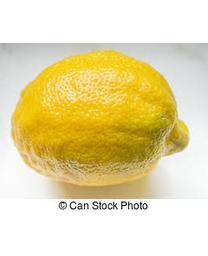lemon: (14, 49, 190, 188)
